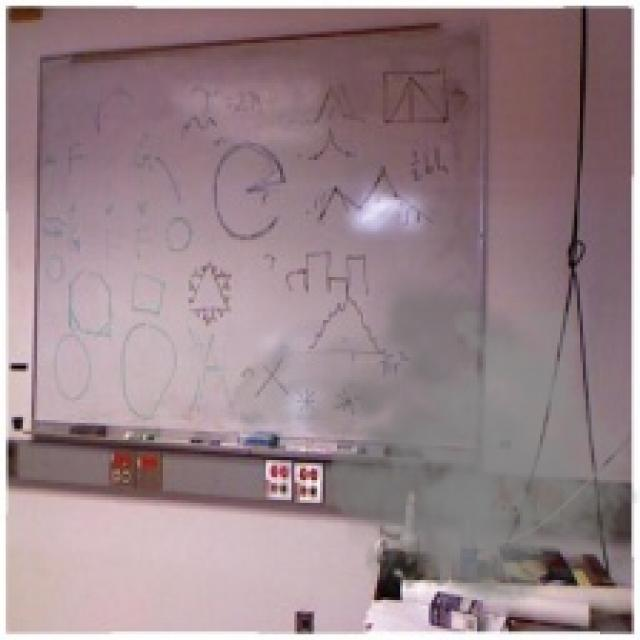Smoke: (220, 268, 637, 632)
